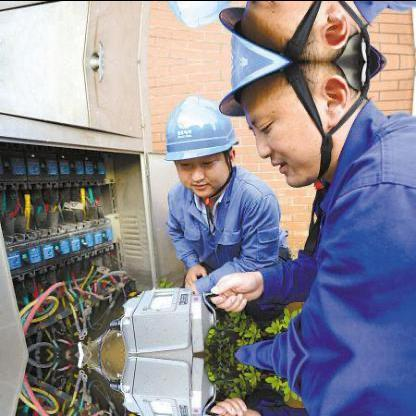Helmet: (221, 60, 366, 182), (158, 86, 242, 198), (220, 0, 367, 61), (157, 0, 244, 35)
